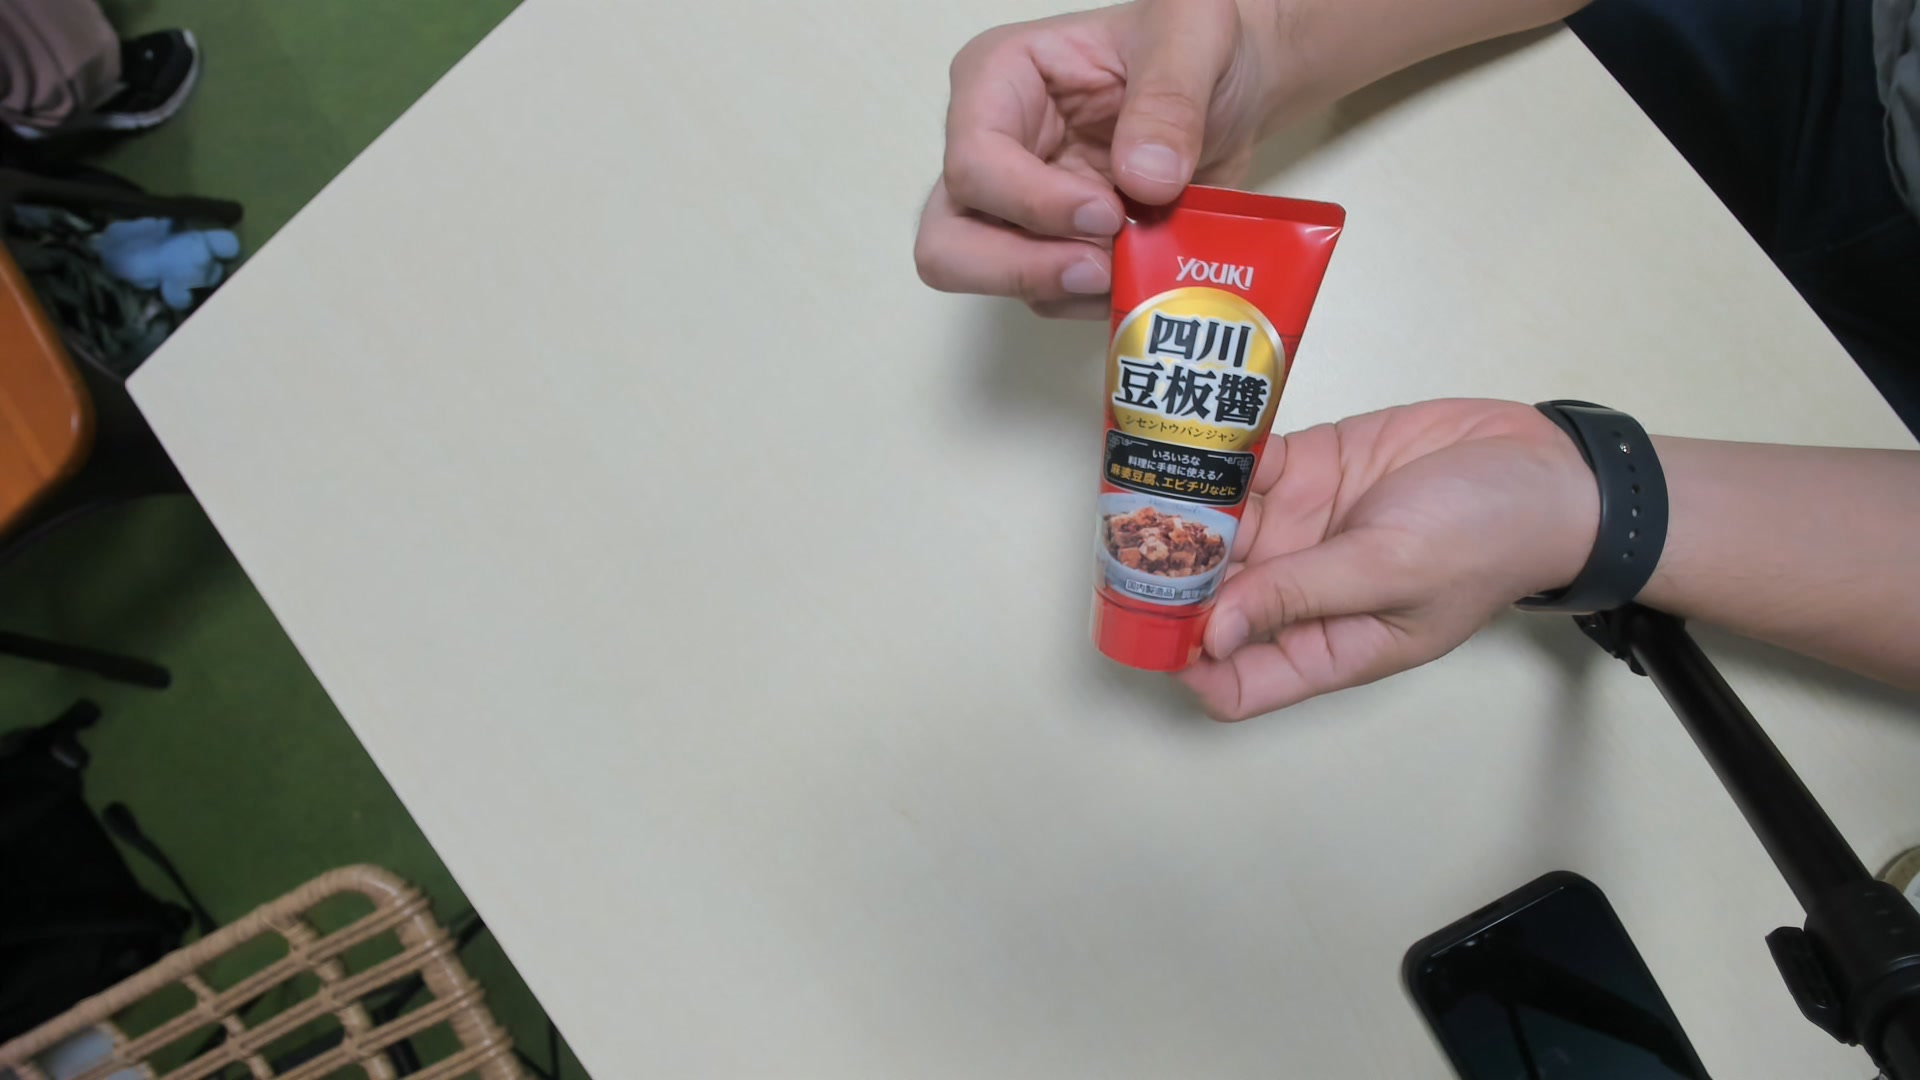OtherSauceDressing_100-199g_NonHalal_NonHealthy: (1095, 183, 1335, 676)
